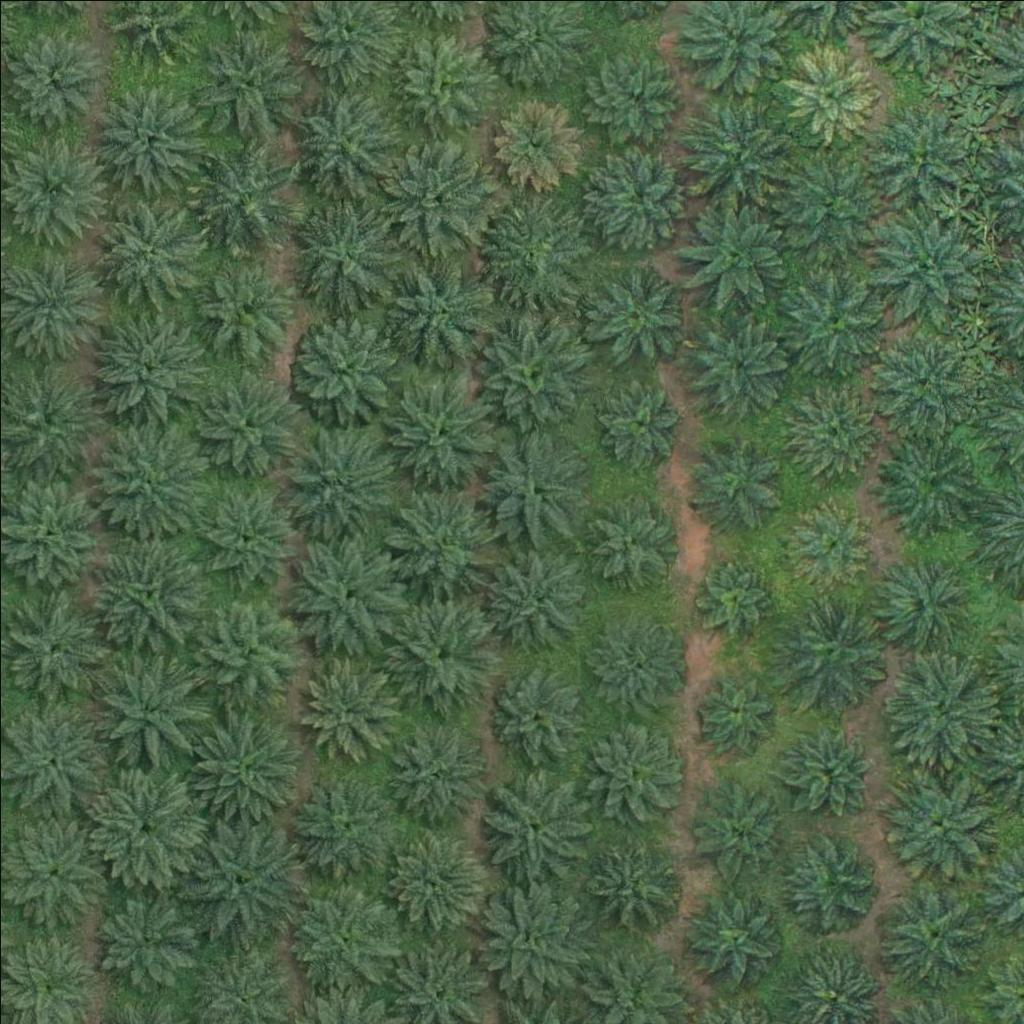Kelapa_Sawit: (872, 426, 985, 540), (867, 321, 980, 435), (775, 267, 888, 381), (769, 141, 882, 255), (677, 196, 790, 310), (194, 595, 307, 709), (89, 537, 202, 651), (89, 419, 202, 533), (87, 769, 200, 882), (90, 657, 203, 770), (181, 820, 294, 933), (188, 708, 301, 821), (479, 884, 592, 997), (479, 768, 592, 881), (481, 656, 594, 769), (871, 881, 984, 994), (480, 543, 593, 656), (474, 430, 587, 543), (474, 316, 587, 429), (384, 375, 497, 488), (382, 249, 495, 362), (379, 139, 492, 252), (93, 307, 206, 420), (86, 189, 199, 302), (287, 86, 400, 199), (679, 99, 792, 212), (888, 654, 1000, 768), (865, 208, 977, 322), (284, 880, 396, 993), (286, 767, 398, 880), (879, 765, 991, 878), (772, 590, 884, 703), (474, 194, 586, 307), (389, 597, 501, 710), (386, 481, 498, 594), (287, 537, 399, 650), (281, 425, 393, 538), (287, 313, 399, 426), (292, 200, 404, 313), (188, 370, 300, 483), (191, 140, 303, 253), (94, 86, 206, 199), (190, 27, 302, 140), (295, 660, 395, 761), (387, 828, 487, 929), (382, 722, 482, 823), (585, 832, 685, 933), (684, 885, 784, 986), (781, 836, 881, 937), (872, 552, 972, 653), (682, 436, 782, 537), (687, 311, 787, 412), (581, 486, 681, 587), (588, 263, 688, 364), (191, 259, 291, 360), (387, 33, 487, 134), (580, 47, 680, 148), (92, 887, 192, 987), (584, 717, 684, 817), (584, 613, 684, 713), (686, 781, 786, 881), (588, 148, 688, 248), (196, 482, 296, 582), (874, 108, 974, 208), (787, 496, 875, 584), (686, 556, 774, 644), (596, 380, 684, 468), (492, 99, 580, 187), (786, 727, 873, 815), (788, 391, 875, 479), (7, 34, 94, 122), (786, 54, 873, 142), (699, 673, 774, 749)
